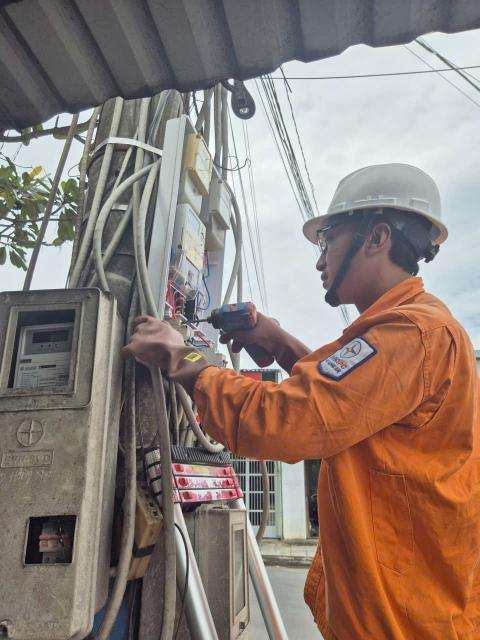gloves: (116, 303, 222, 400), (228, 295, 331, 384)
helmet: (280, 122, 467, 276)
